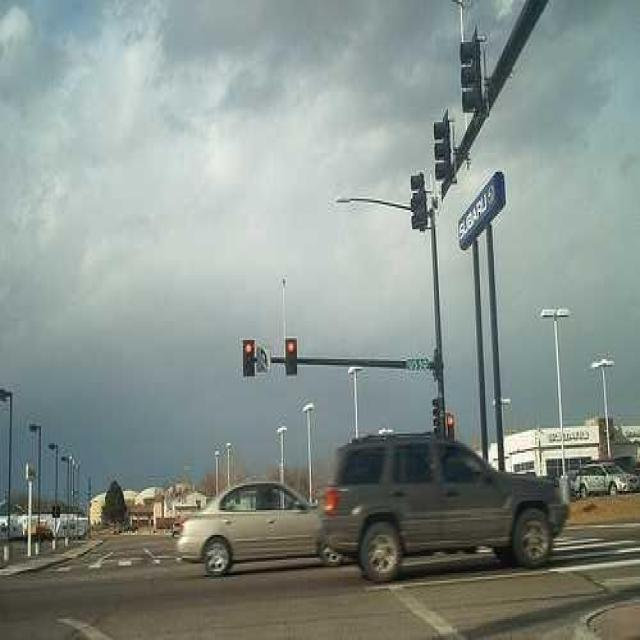Traffic Light -Red-: (284, 336, 297, 376), (242, 338, 255, 378)
